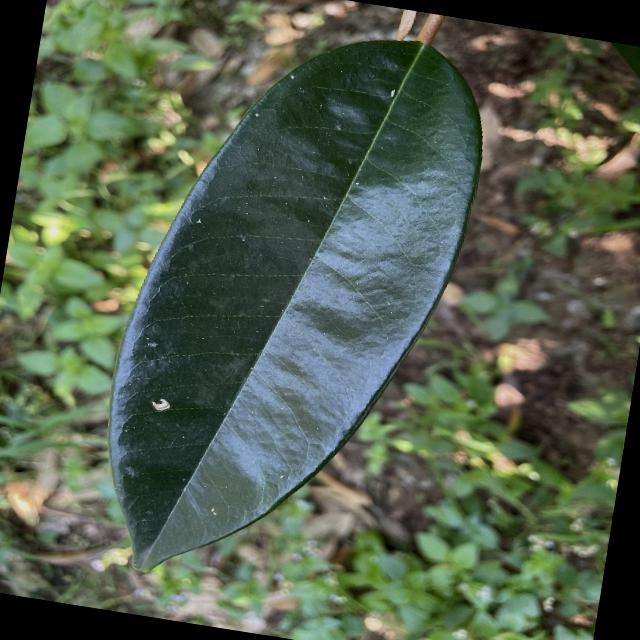No Disease: (78, 0, 505, 630)
